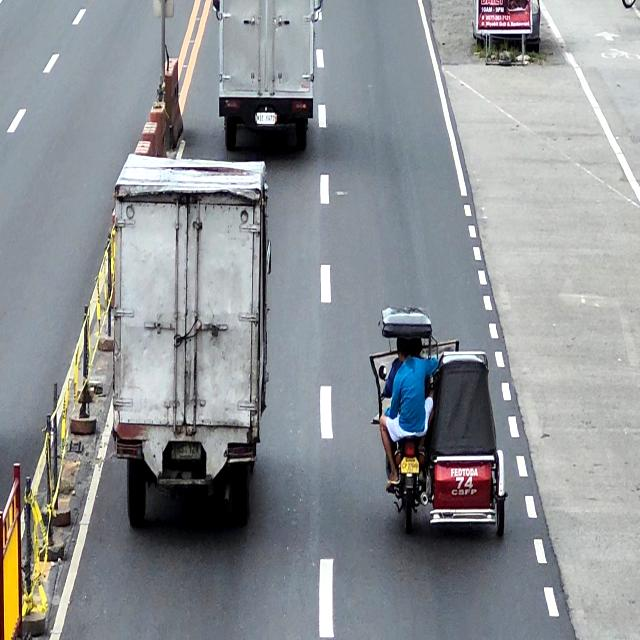License-Plate: (171, 442, 201, 459), (400, 458, 419, 472), (256, 112, 276, 124)
Tricycle: (376, 307, 507, 540)
Truck: (112, 153, 270, 529), (212, 0, 324, 157)
